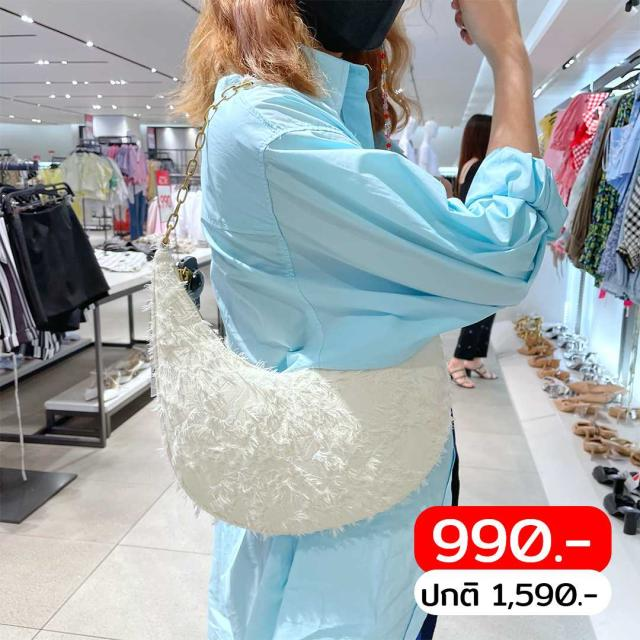Handbag: (135, 258, 467, 548)
